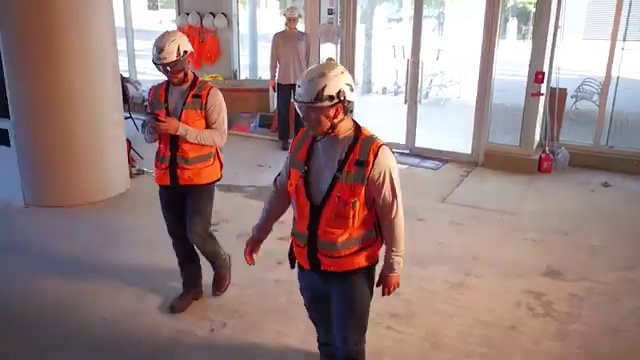helmet: (287, 54, 361, 107), (144, 28, 202, 62)
jacket: (285, 121, 388, 269), (144, 76, 231, 182)
